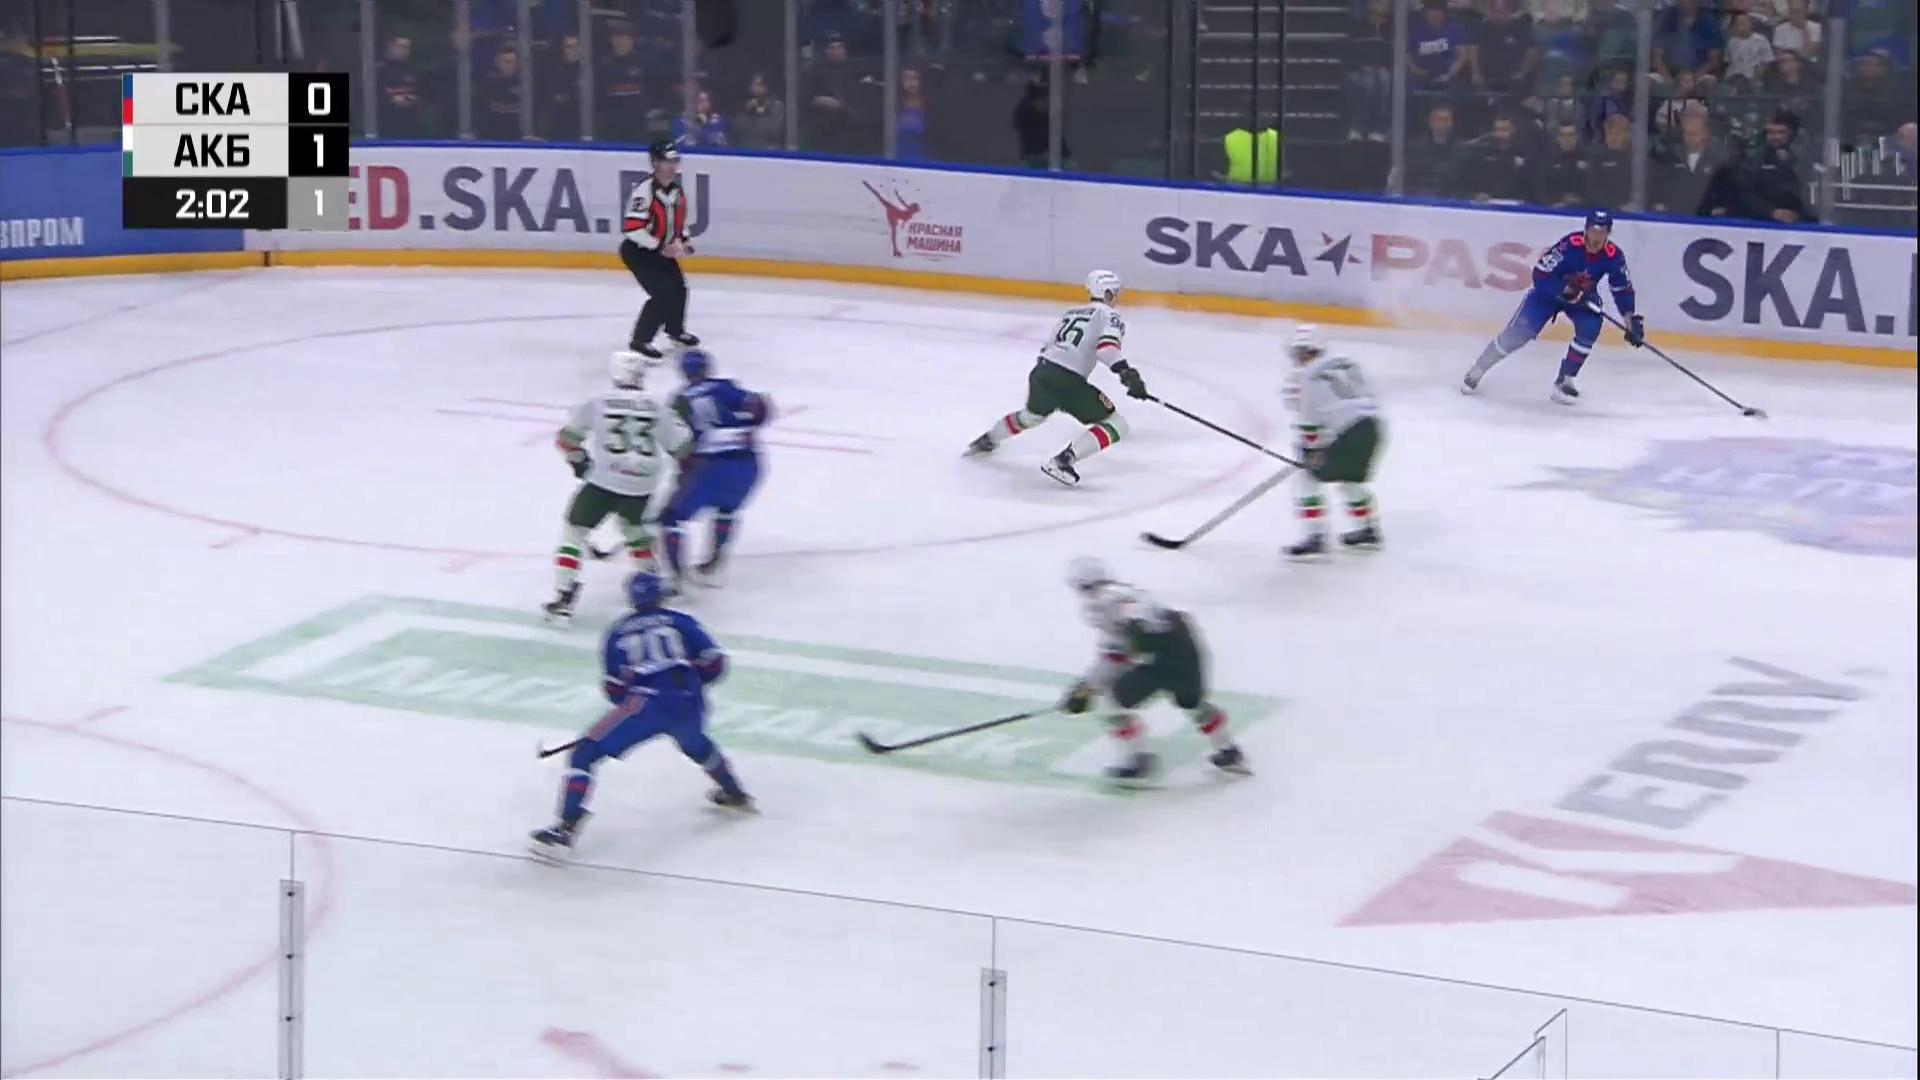ball: (1743, 410, 1756, 417)
